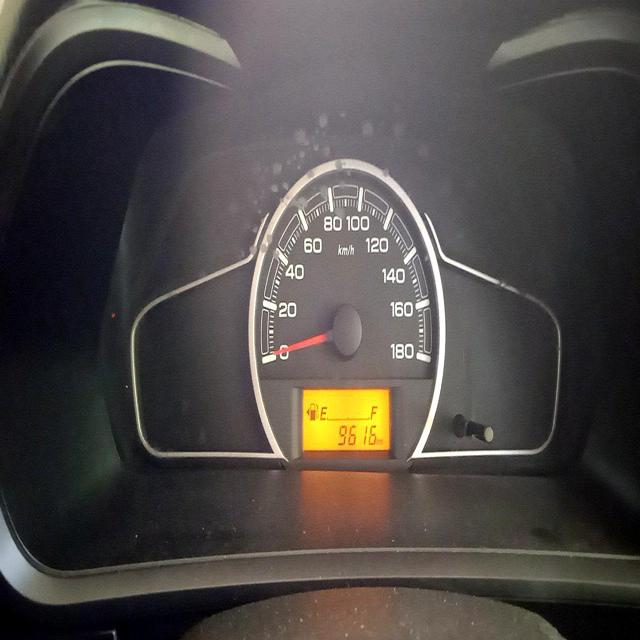odometer: (336, 422, 378, 448)
